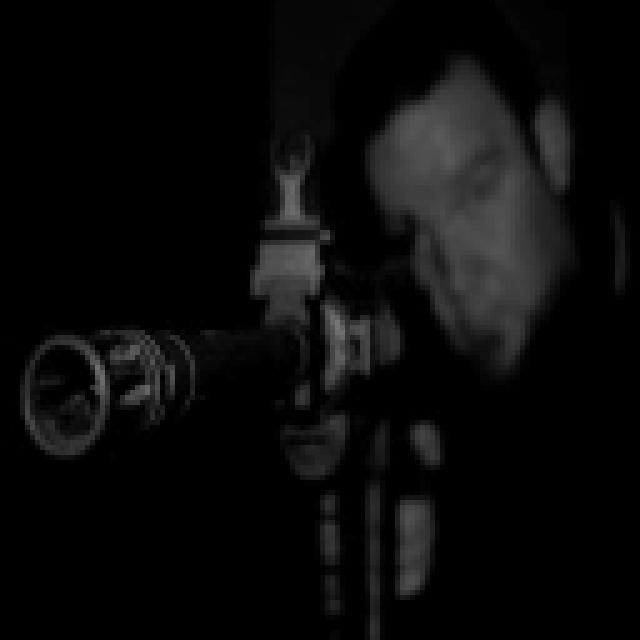Rifle: (0, 125, 445, 640)
